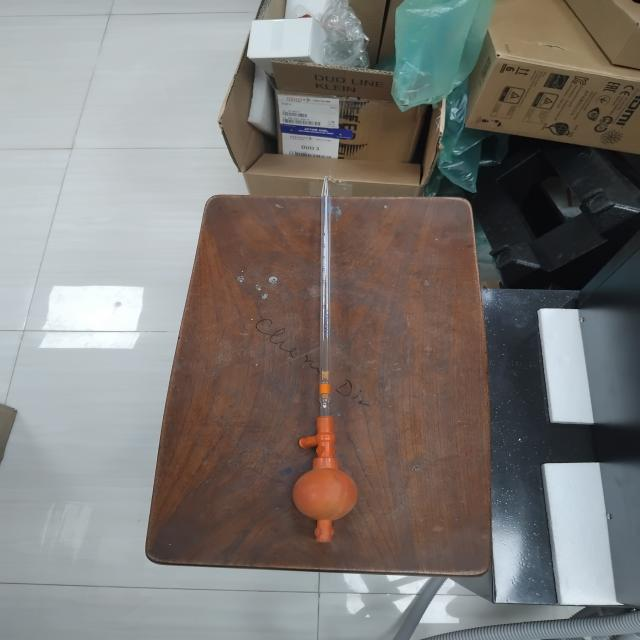Volumetric_Pipet: (246, 153, 402, 575)
